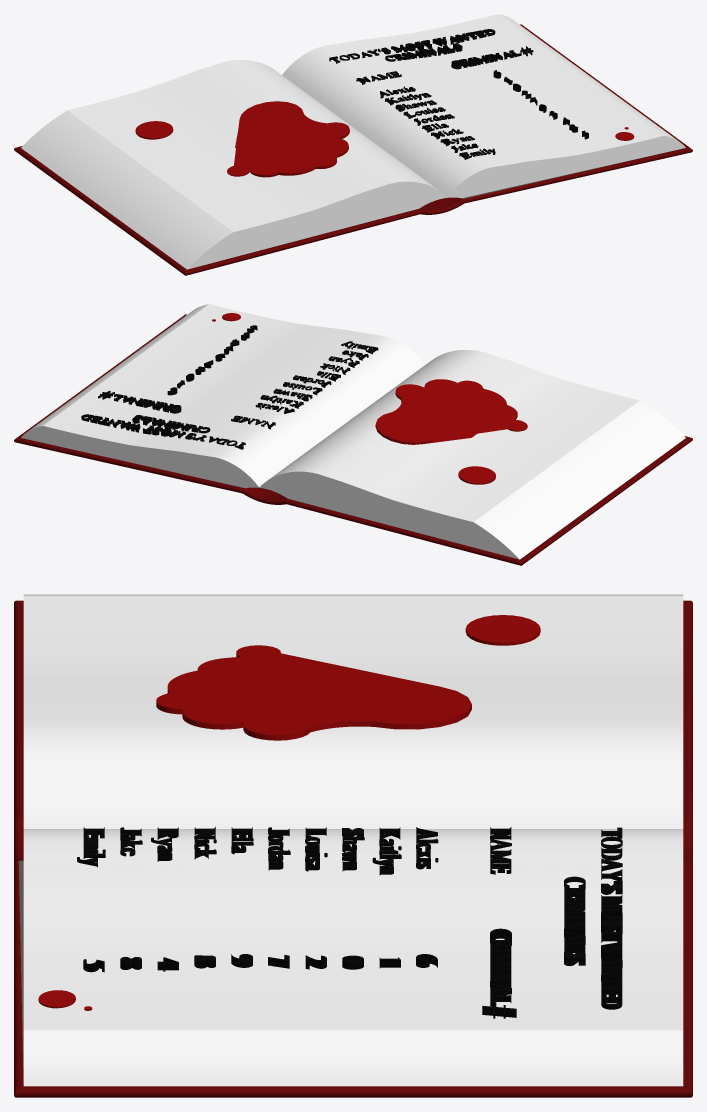
Rendered from Phone Book open.fbx.
3 renders of one model, top to bottom at view 1: azimuth 30°, elevation 25°; view 2: azimuth 150°, elevation 25°; view 3: azimuth 270°, elevation 25°, orthographic. The views are drawn at different scales.
Parts seen in each view (by area): view 1: Group2, Group1, TODAY_S_MOST_WAN1, Model; view 2: Group2, Group1, TODAY_S_MOST_WAN1, Model; view 3: Group2, Group1, TODAY_S_MOST_WAN1, Model.
Boxes of the visible parts, x1,y1,x2,y2 form: Group2: (14, 14, 692, 275); Group1: (227, 101, 349, 177); TODAY_S_MOST_WAN1: (329, 29, 588, 159); Model: (135, 46, 634, 140); Group2: (14, 304, 692, 565); Group1: (375, 379, 527, 444); TODAY_S_MOST_WAN1: (81, 325, 378, 449); Model: (98, 313, 495, 484); Group2: (14, 594, 692, 1097); Group1: (156, 645, 471, 740); TODAY_S_MOST_WAN1: (77, 826, 622, 1009); Model: (38, 615, 540, 1018).
Size of the model in its own units: 19.48 by 1.73 by 11.37.
